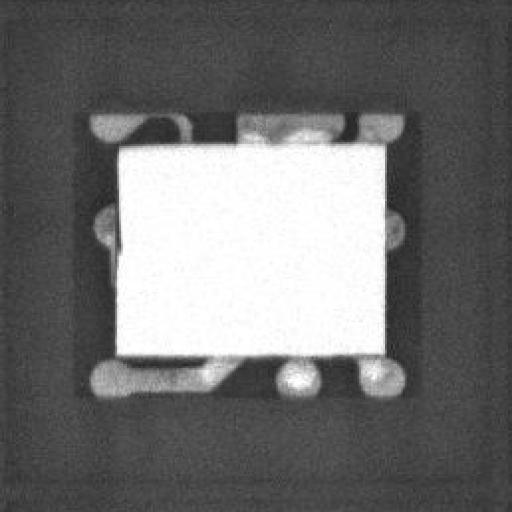DIE_BROKEN: (111, 218, 121, 254)
